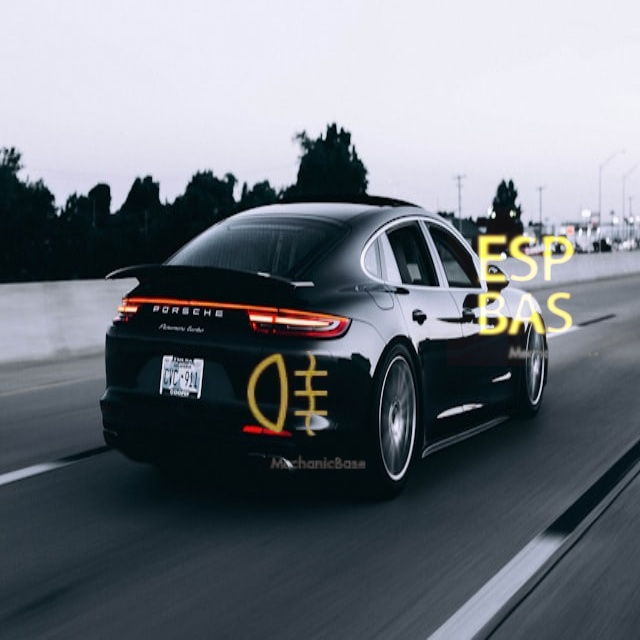symbol: (206, 311, 372, 477), (447, 207, 606, 366)
